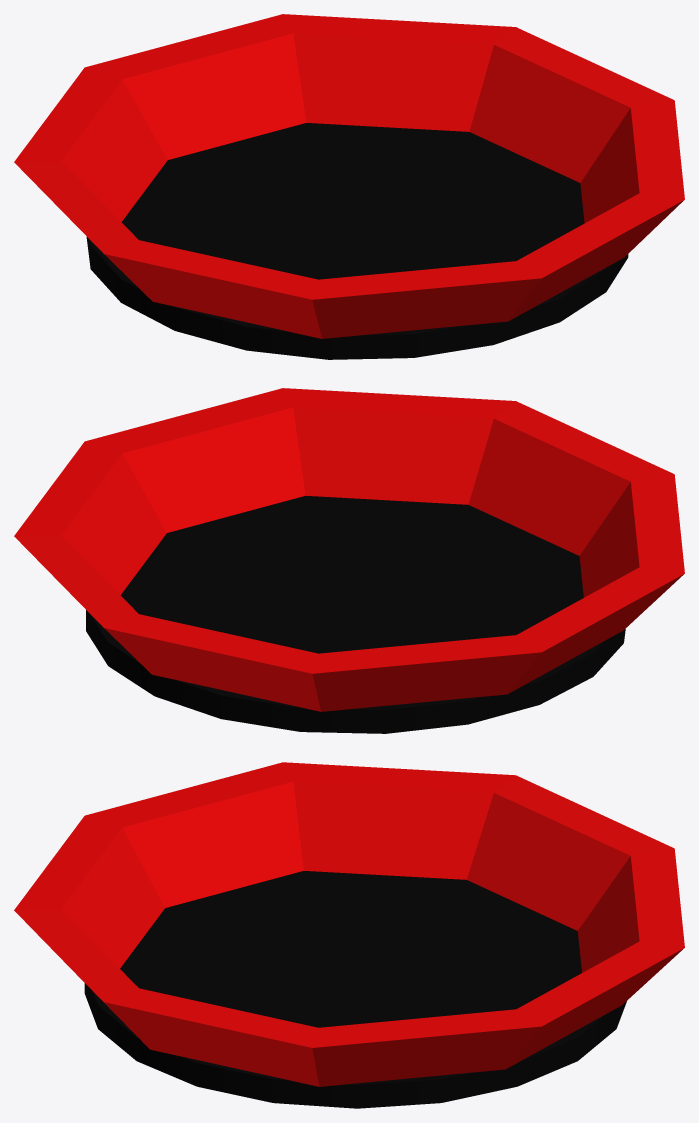
File: LightCandleHolderB07Collider.fbx
3 views of the same model, one above another, from view 1: azimuth 30°, elevation 25°; view 2: azimuth 150°, elevation 25°; view 3: azimuth 270°, elevation 25° (orthographic).
Visible parts, largest first — view 1: LightCandleHolderB07Collision; view 2: LightCandleHolderB07Collision; view 3: LightCandleHolderB07Collision.
Boxes of the visible parts, x1=… form: LightCandleHolderB07Collision: x1=14, y1=14, x2=684, y2=359; LightCandleHolderB07Collision: x1=14, y1=388, x2=684, y2=733; LightCandleHolderB07Collision: x1=14, y1=762, x2=684, y2=1108.
Size of the model in its own units: 10.11 by 1.48 by 10.03.
